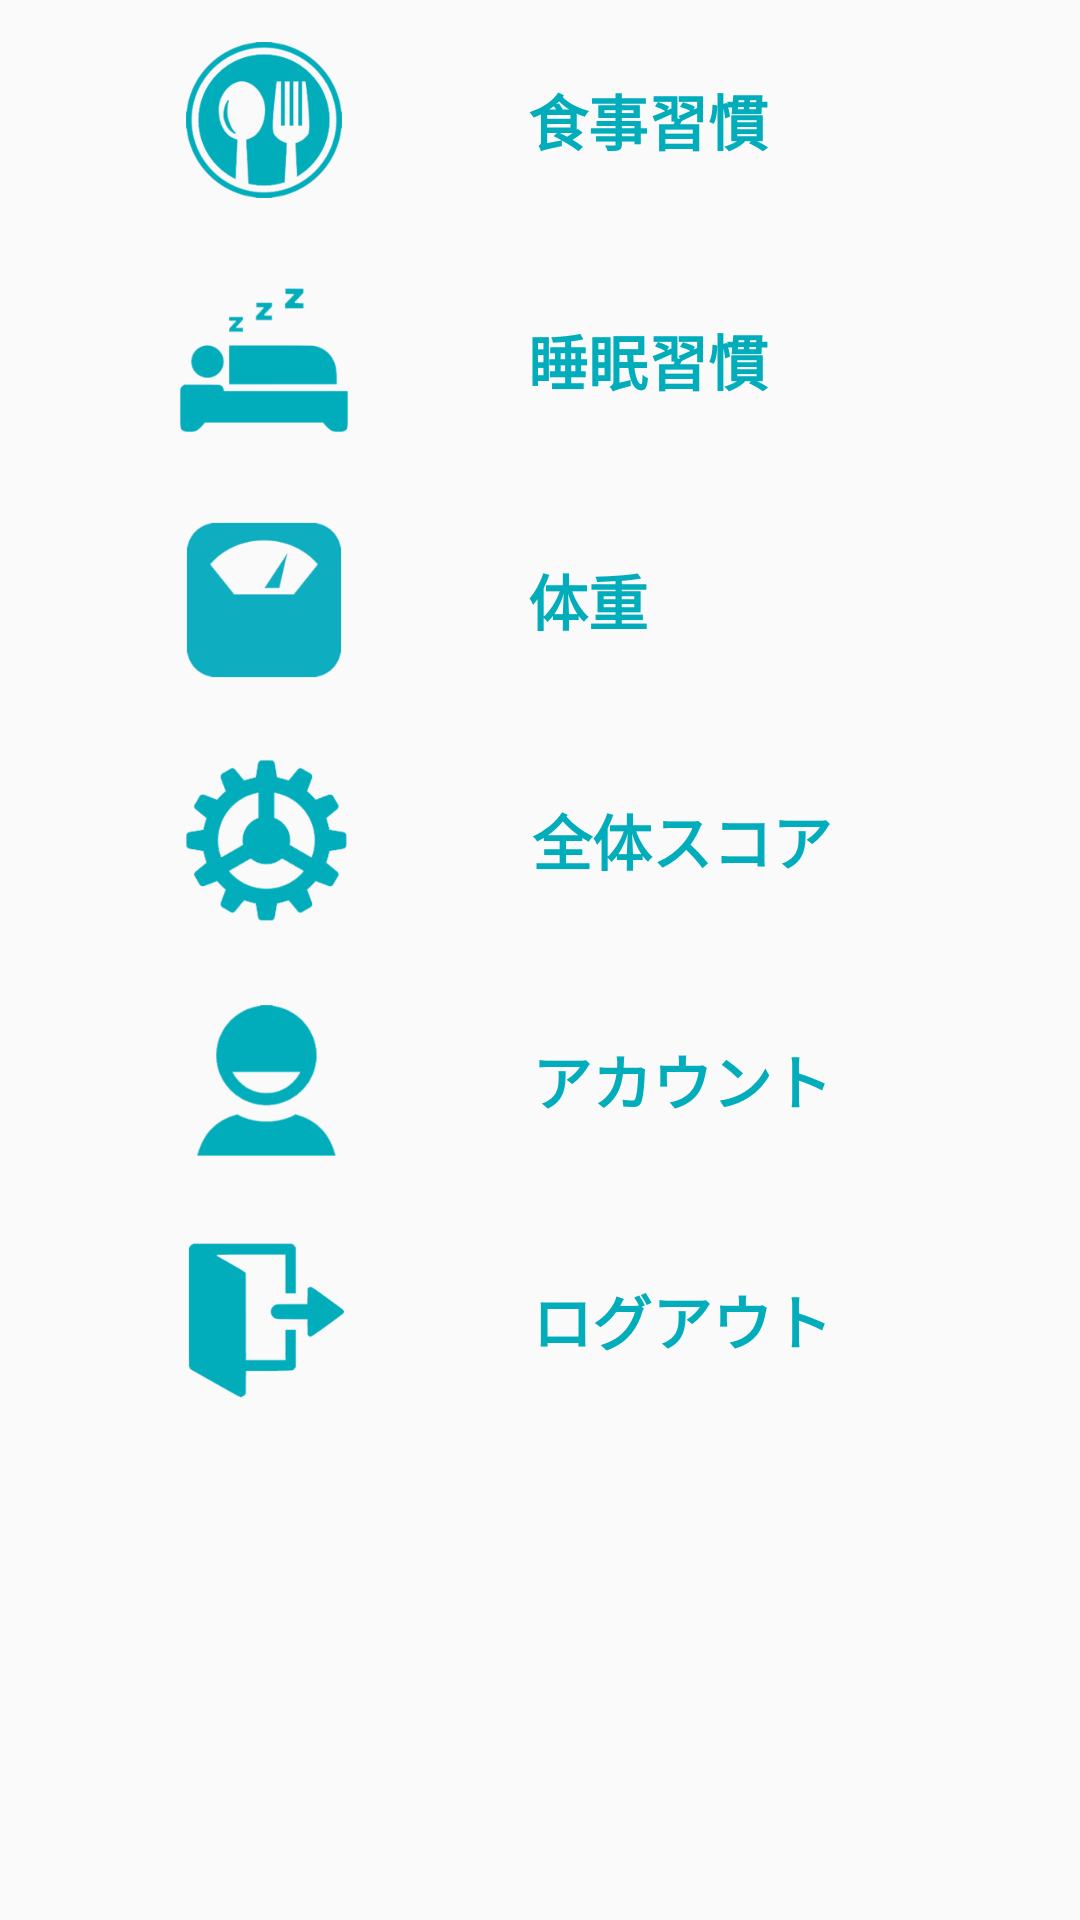

Locate icon controls on the screen. Image size 1080×1920, boxes as bbox=[x1, y1, x2, y2].
meal: bbox=[186, 42, 342, 198]
setting: bbox=[186, 760, 347, 921]
sleep: bbox=[180, 288, 348, 432]
user: bbox=[197, 1005, 336, 1156]
weight: bbox=[186, 522, 342, 678]
